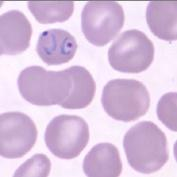Infected: (99, 110, 140, 148)
Uninfected: (9, 2, 54, 54), (107, 71, 158, 112), (27, 55, 74, 98), (88, 18, 132, 63), (23, 104, 69, 147), (52, 131, 95, 174), (81, 67, 121, 111), (141, 18, 177, 64), (54, 0, 94, 33)
